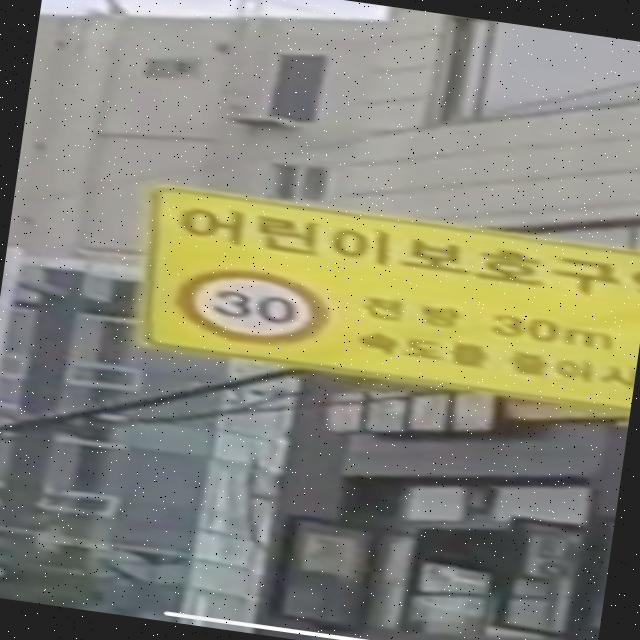Ograniczenie predkosci do 30: (167, 260, 337, 356)
